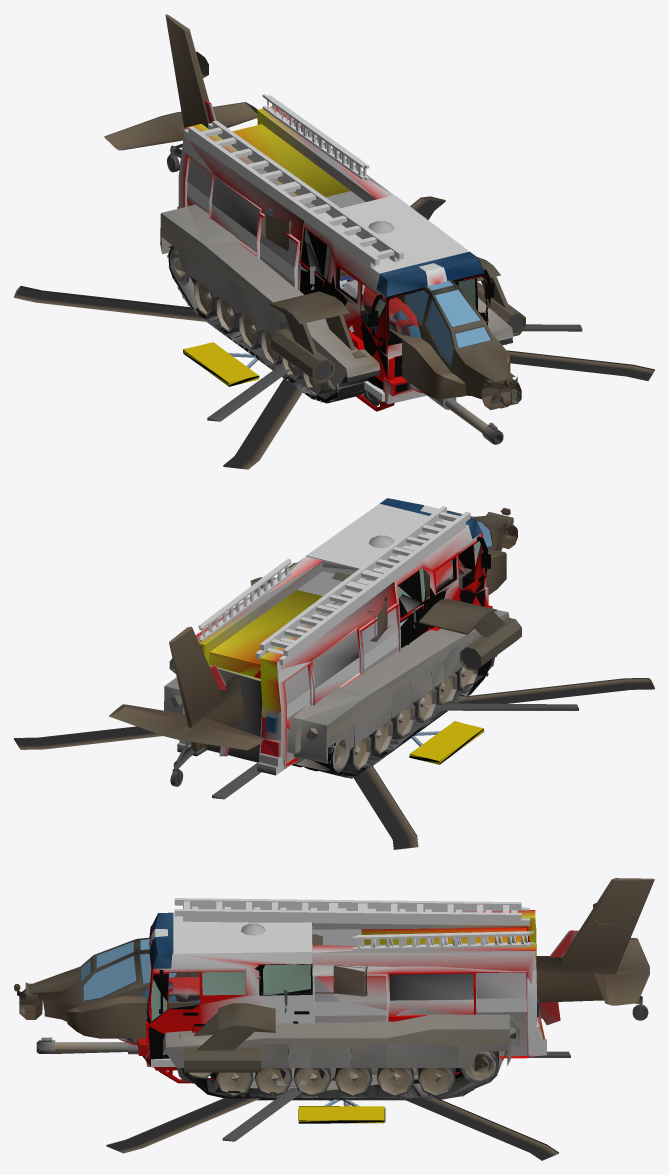
The model's file is traffic.glb.
3 renders of one model, top to bottom at view 1: azimuth 30°, elevation 25°; view 2: azimuth 150°, elevation 25°; view 3: azimuth 270°, elevation 25°, orthographic. The views are drawn at different scales.
Parts seen in each view (by area): view 1: firetruck, gunship, tank, firetruck_far, gunship_rotor, tank_far, spike, heli, heli_rotor, tank_turret; view 2: firetruck, gunship, tank, firetruck_far, gunship_rotor, tank_far, spike, heli_rotor, heli; view 3: firetruck, gunship, tank, firetruck_far, gunship_rotor, tank_far, heli, spike, tank_turret, heli_rotor.
Part boxes in pixels (bbox=[...]): firetruck: bbox=[177, 94, 494, 404]; gunship: bbox=[104, 14, 525, 409]; tank: bbox=[160, 206, 513, 403]; firetruck_far: bbox=[178, 124, 487, 396]; gunship_rotor: bbox=[14, 196, 654, 469]; tank_far: bbox=[168, 204, 511, 400]; spike: bbox=[183, 342, 259, 386]; heli: bbox=[204, 100, 423, 411]; heli_rotor: bbox=[207, 324, 582, 421]; tank_turret: bbox=[245, 306, 503, 444]; firetruck: bbox=[177, 498, 492, 775]; gunship: bbox=[109, 508, 521, 786]; tank: bbox=[164, 612, 509, 778]; firetruck_far: bbox=[183, 503, 485, 768]; gunship_rotor: bbox=[14, 577, 654, 849]; tank_far: bbox=[165, 610, 507, 776]; spike: bbox=[409, 721, 484, 764]; heli_rotor: bbox=[212, 618, 578, 799]; heli: bbox=[210, 535, 465, 756]; firetruck: bbox=[137, 898, 546, 1079]; gunship: bbox=[14, 878, 654, 1083]; tank: bbox=[163, 1014, 519, 1100]; firetruck_far: bbox=[142, 912, 544, 1072]; gunship_rotor: bbox=[106, 1096, 558, 1160]; tank_far: bbox=[165, 1014, 509, 1099]; heli: bbox=[118, 923, 578, 1083]; spike: bbox=[298, 1099, 385, 1123]; tank_turret: bbox=[36, 1037, 418, 1090]; heli_rotor: bbox=[222, 1051, 570, 1141].
Bounding box in the file's own units: 10.52 × 5.57 × 14.35.
